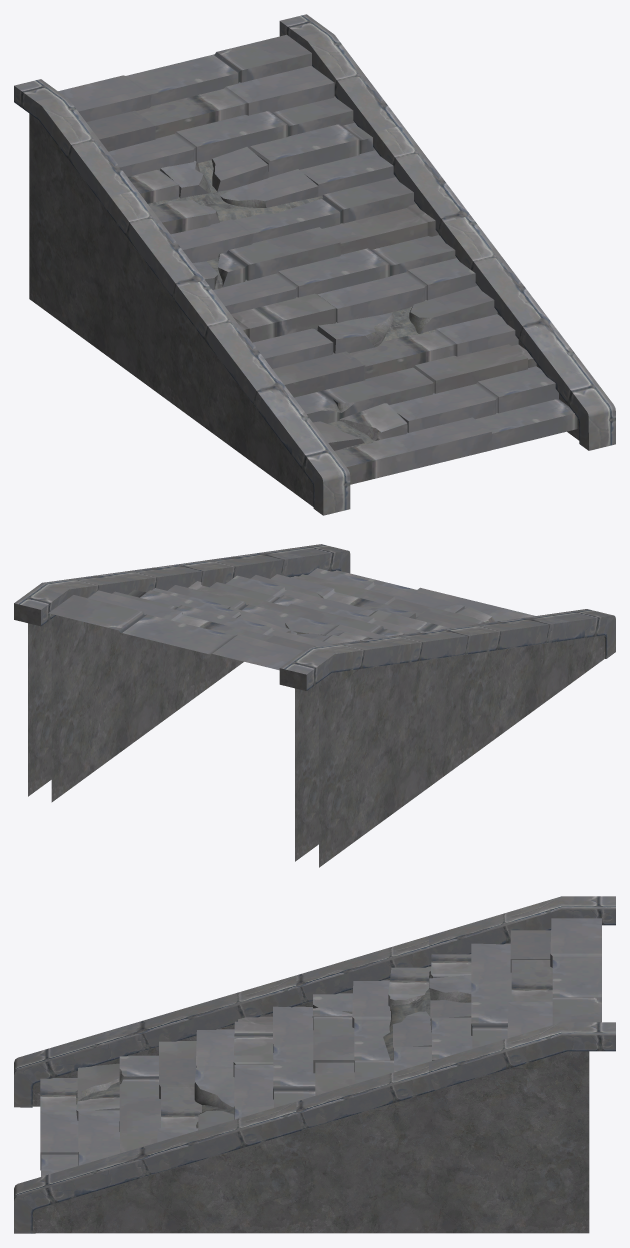
File: SM_Alt_Sta_03AM.fbx
The picture shows the model from 3 angles, top to bottom: view 1: azimuth 30°, elevation 25°; view 2: azimuth 150°, elevation 25°; view 3: azimuth 270°, elevation 25°; orthographic projection. The views are drawn at different scales.
Visible parts, largest first — view 1: SM_Alt_Sta_03AM.mo; view 2: SM_Alt_Sta_03AM.mo; view 3: SM_Alt_Sta_03AM.mo.
Boxes of the visible parts, bbox=[...] form: SM_Alt_Sta_03AM.mo: bbox=[14, 14, 615, 515]; SM_Alt_Sta_03AM.mo: bbox=[14, 544, 615, 867]; SM_Alt_Sta_03AM.mo: bbox=[14, 896, 615, 1233].
Bounding box in the file's own units: 4.71 × 3.14 × 8.63.
